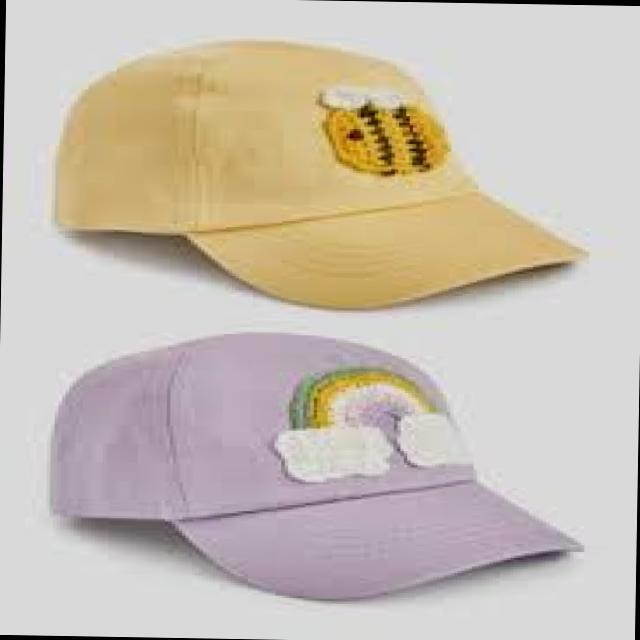cap: (31, 12, 605, 326), (42, 326, 594, 630)
